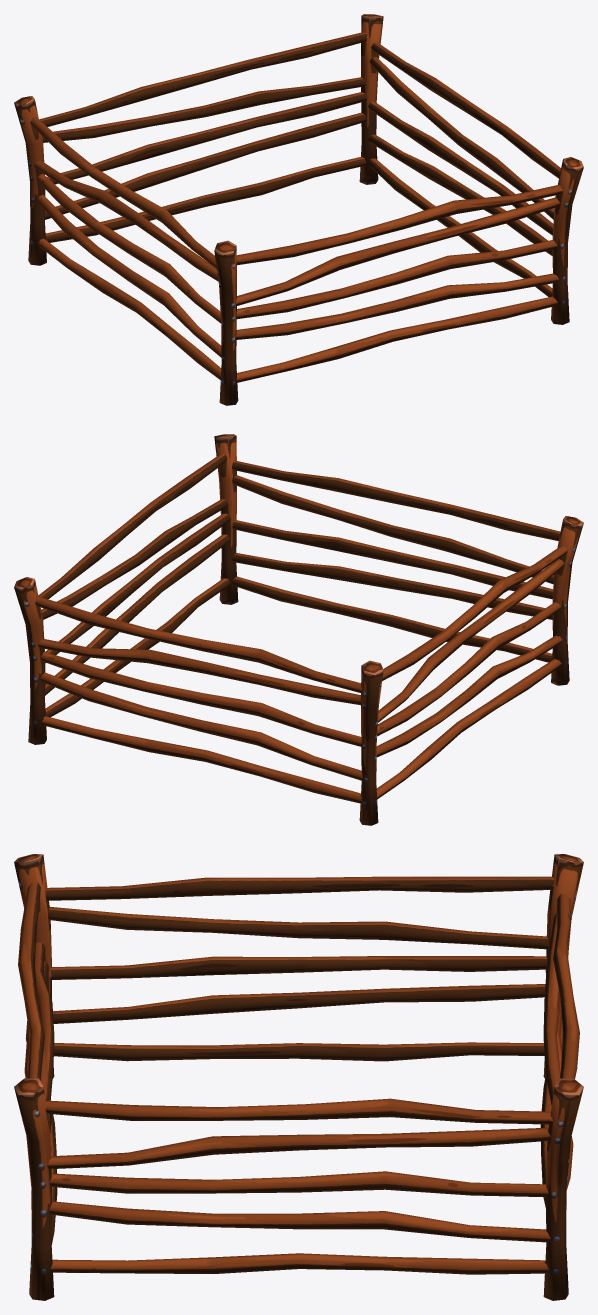
The model's file is Enclos_Morpher.fbx.
3 views of the same model, one above another, from view 1: azimuth 30°, elevation 25°; view 2: azimuth 150°, elevation 25°; view 3: azimuth 270°, elevation 25° (orthographic). The views are drawn at different scales.
Parts seen in each view (by area): view 1: Enclos; view 2: Enclos; view 3: Enclos.
Boxes of the visible parts, x1=… form: Enclos: x1=14, y1=14, x2=583, y2=405; Enclos: x1=14, y1=434, x2=583, y2=825; Enclos: x1=14, y1=854, x2=583, y2=1300.
Bounding box in the file's own units: 222 × 93.71 × 222.
Materials: 1 (1 with a texture image).
